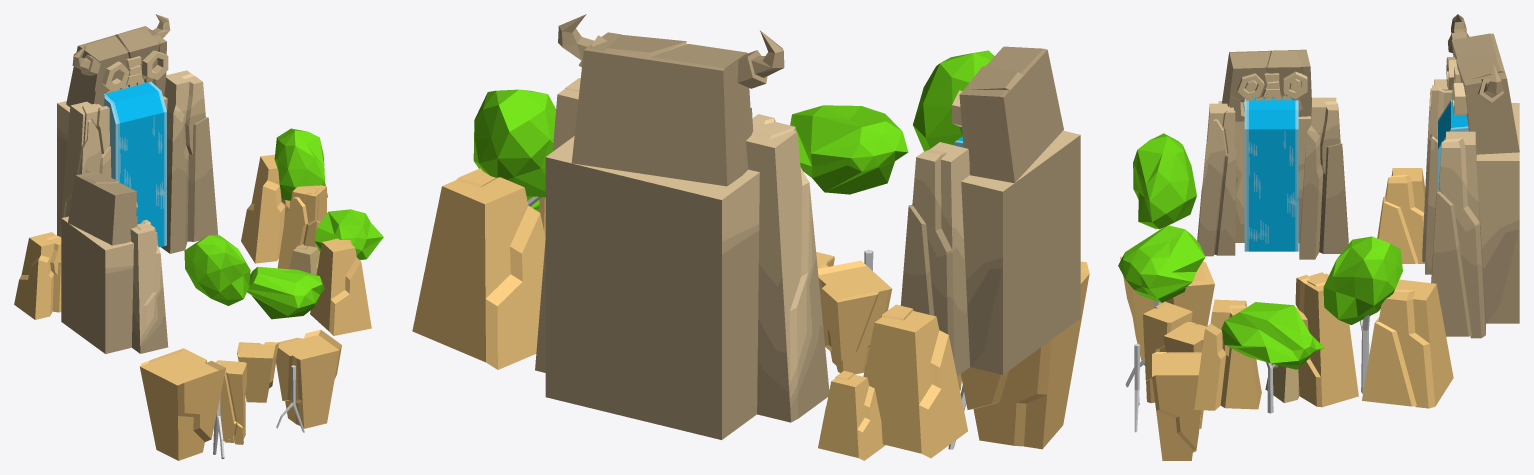
File: MAP.FBX
3 views of the same model, side by side, from view 1: azimuth 30°, elevation 25°; view 2: azimuth 150°, elevation 25°; view 3: azimuth 270°, elevation 25° (orthographic). The views are drawn at different scales.
Parts seen in each view (by area): view 1: Box006, Box024, Box007, Box023, Box021, Box014, Box016, GeoSphere003, Box018, GeoSphere004, GeoSphere002, Box017 (+5 smaller); view 2: Box006, Box024, Box016, Box018, Box023, GeoSphere004, GeoSphere002, Box020, Box019, GeoSphere003; view 3: Box006, Box024, Box016, Box025, Box017, GeoSphere002, GeoSphere003, Box014, Box021, GeoSphere001, GeoSphere004, Box018 (+7 smaller).
Boxes of the visible parts, <box> form: Box006: <box>57,14,218,253</box>; Box024: <box>61,171,168,353</box>; Box007: <box>104,81,166,247</box>; Box023: <box>139,348,225,460</box>; Box021: <box>276,329,341,428</box>; Box014: <box>310,238,371,335</box>; Box016: <box>241,154,290,263</box>; GeoSphere003: <box>184,235,250,305</box>; Box018: <box>14,232,61,319</box>; GeoSphere004: <box>247,267,324,319</box>; GeoSphere002: <box>274,128,327,200</box>; Box017: <box>277,185,326,269</box>; Box006: <box>535,14,829,439</box>; Box024: <box>900,46,1080,376</box>; Box016: <box>412,168,545,369</box>; Box018: <box>863,304,967,458</box>; Box023: <box>961,261,1089,449</box>; GeoSphere004: <box>790,105,908,194</box>; GeoSphere002: <box>473,89,555,197</box>; Box020: <box>817,260,891,374</box>; Box019: <box>818,371,885,460</box>; GeoSphere003: <box>913,50,994,151</box>; Box006: <box>1422,14,1519,338</box>; Box024: <box>1197,49,1348,259</box>; Box016: <box>1362,279,1453,408</box>; Box025: <box>1244,97,1298,251</box>; Box017: <box>1295,272,1358,407</box>; GeoSphere002: <box>1323,236,1402,324</box>; GeoSphere003: <box>1133,133,1196,229</box>; Box014: <box>1194,299,1261,410</box>; Box021: <box>1152,352,1203,460</box>; GeoSphere001: <box>1221,302,1324,369</box>; GeoSphere004: <box>1118,225,1205,302</box>; Box018: <box>1377,168,1425,263</box>.
Bounding box in the file's own units: 755 × 734 × 786.
Materials: 5 (2 with a texture image).
